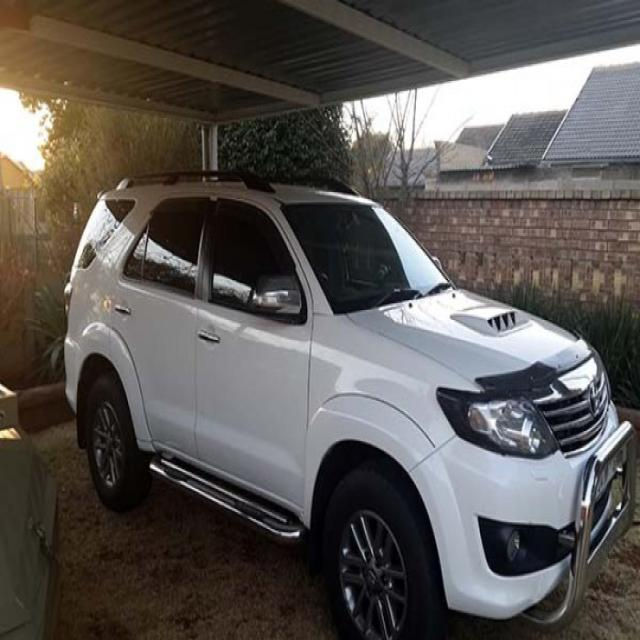light_vehicle: (61, 170, 637, 632)
